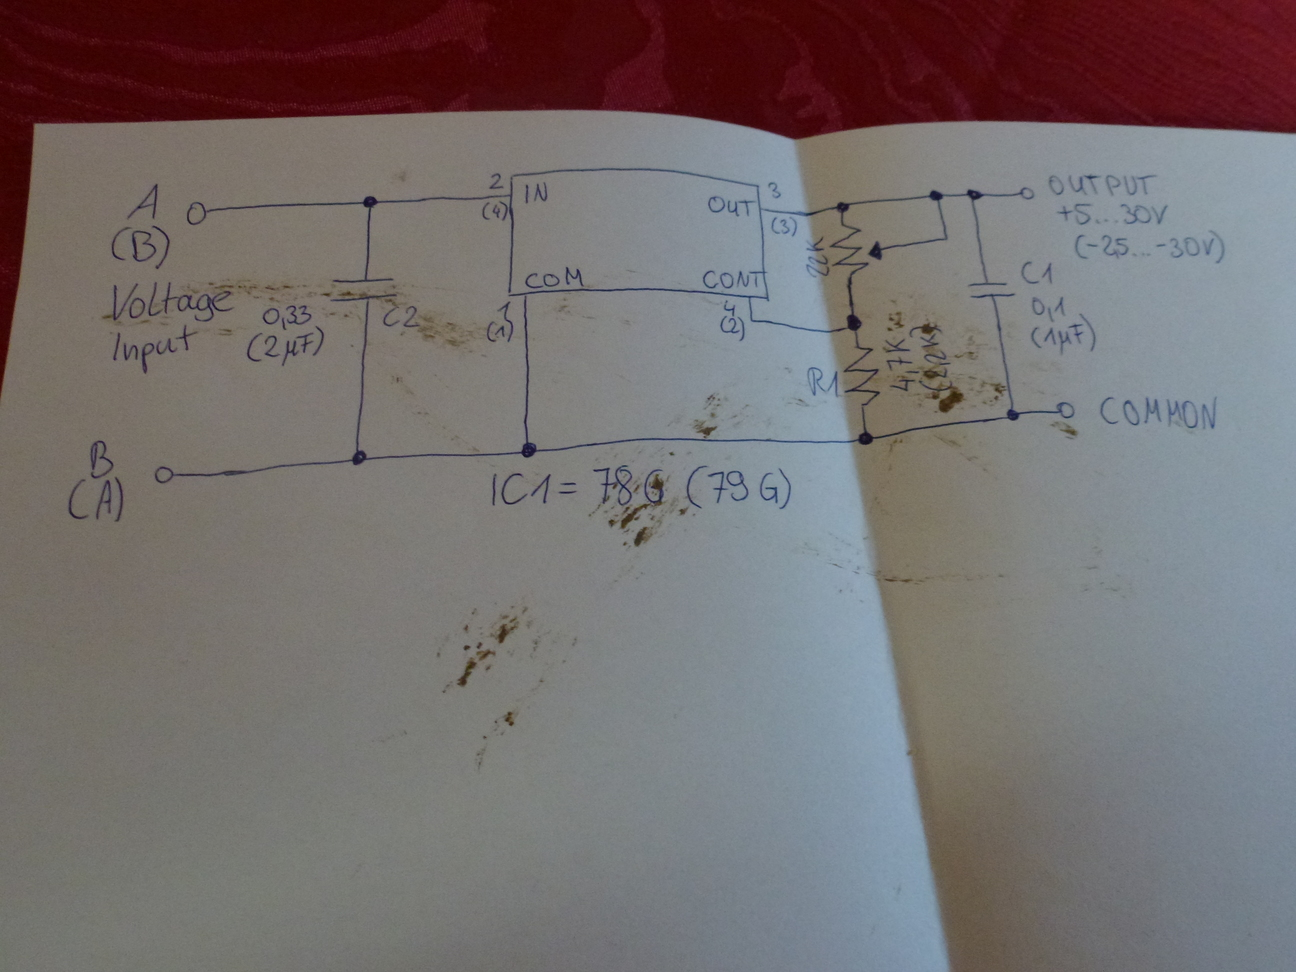capacitor.unpolarized: (325, 274, 404, 306), (966, 278, 1014, 301)
integrated_circuit: (505, 164, 771, 302)
junction: (841, 312, 866, 335), (855, 428, 876, 449), (519, 438, 539, 460), (349, 447, 369, 467), (360, 192, 380, 210), (1004, 405, 1021, 424), (964, 187, 983, 202), (928, 188, 945, 203), (834, 200, 851, 214), (939, 232, 951, 243), (747, 315, 757, 327)
resistor: (843, 343, 882, 406)
resistor.adjustable: (828, 222, 885, 283)
terminal: (180, 197, 212, 225), (1052, 398, 1080, 425), (150, 461, 179, 486), (1014, 183, 1041, 204)
text: (488, 465, 795, 515), (108, 278, 239, 327), (1066, 229, 1234, 264), (1095, 392, 1223, 434), (109, 321, 200, 374), (907, 324, 961, 399), (1047, 169, 1157, 202), (246, 323, 328, 367), (108, 223, 173, 273), (65, 477, 126, 526), (1059, 199, 1167, 226), (1029, 315, 1098, 355), (882, 326, 919, 394), (380, 302, 432, 335), (702, 266, 764, 293), (122, 181, 162, 222), (84, 436, 118, 481), (260, 302, 313, 331), (525, 265, 584, 290), (803, 234, 833, 281), (805, 364, 841, 401), (1030, 294, 1071, 322), (706, 193, 750, 218), (1018, 257, 1055, 286), (485, 318, 515, 345), (718, 314, 747, 343), (520, 180, 550, 205), (769, 215, 798, 236), (482, 199, 508, 220), (486, 171, 504, 194), (720, 297, 740, 319), (494, 298, 513, 320), (766, 179, 783, 198)
